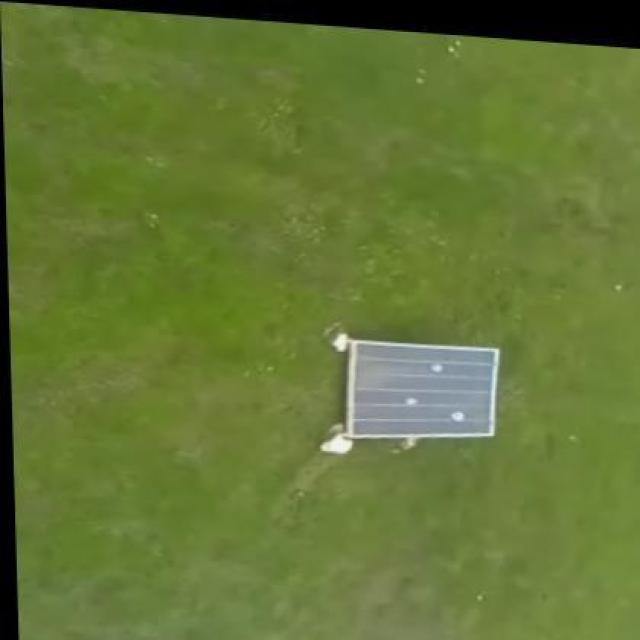soiled: (351, 337, 502, 440)
